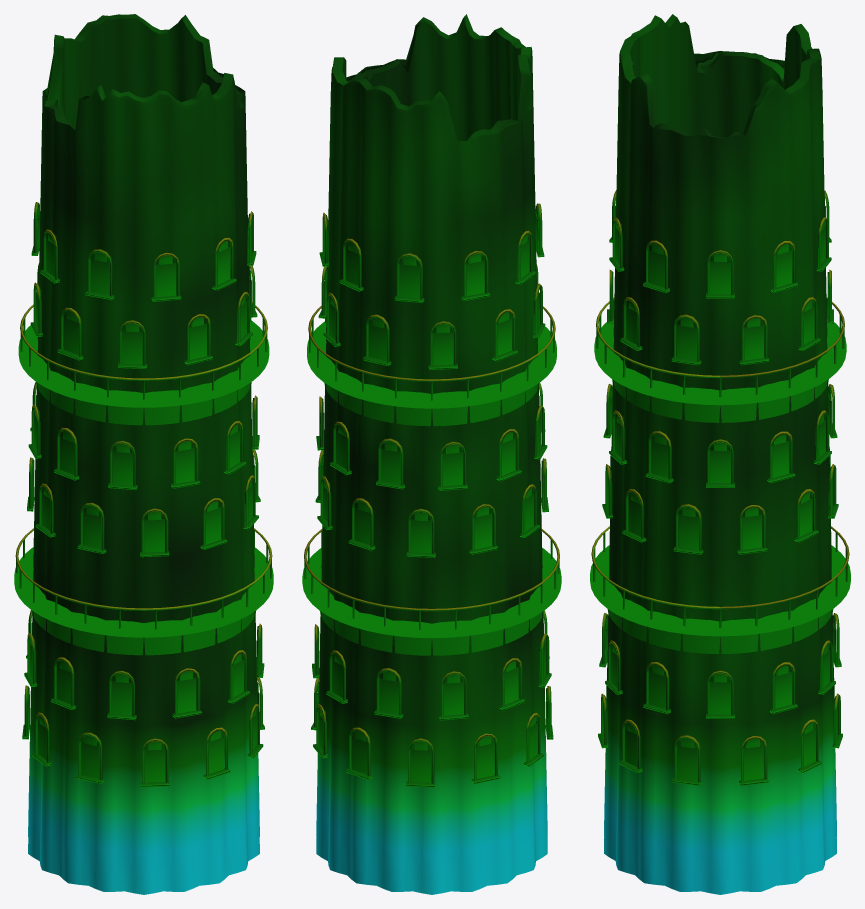
The model's file is iskarra_tower_broken.glb.
The picture shows the model from 3 angles, left to right: view 1: azimuth 30°, elevation 25°; view 2: azimuth 150°, elevation 25°; view 3: azimuth 270°, elevation 25°; orthographic projection.
Parts seen in each view (by area): view 1: iskarra_tower_broken; view 2: iskarra_tower_broken; view 3: iskarra_tower_broken.
Part boxes in pixels (x1,y1,x2,y2): iskarra_tower_broken: (14, 14, 273, 894); iskarra_tower_broken: (302, 14, 561, 894); iskarra_tower_broken: (590, 14, 850, 894).
Size of what is drawn, in the model's own units: 11.35 by 38.25 by 11.35.
